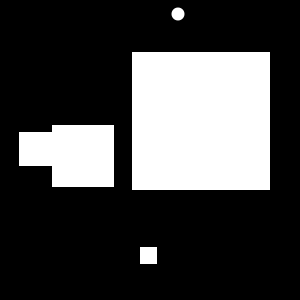circle: (132, 52, 270, 190), (52, 125, 114, 187), (19, 132, 53, 166), (140, 247, 157, 264)
rectangle: (172, 8, 184, 20)
